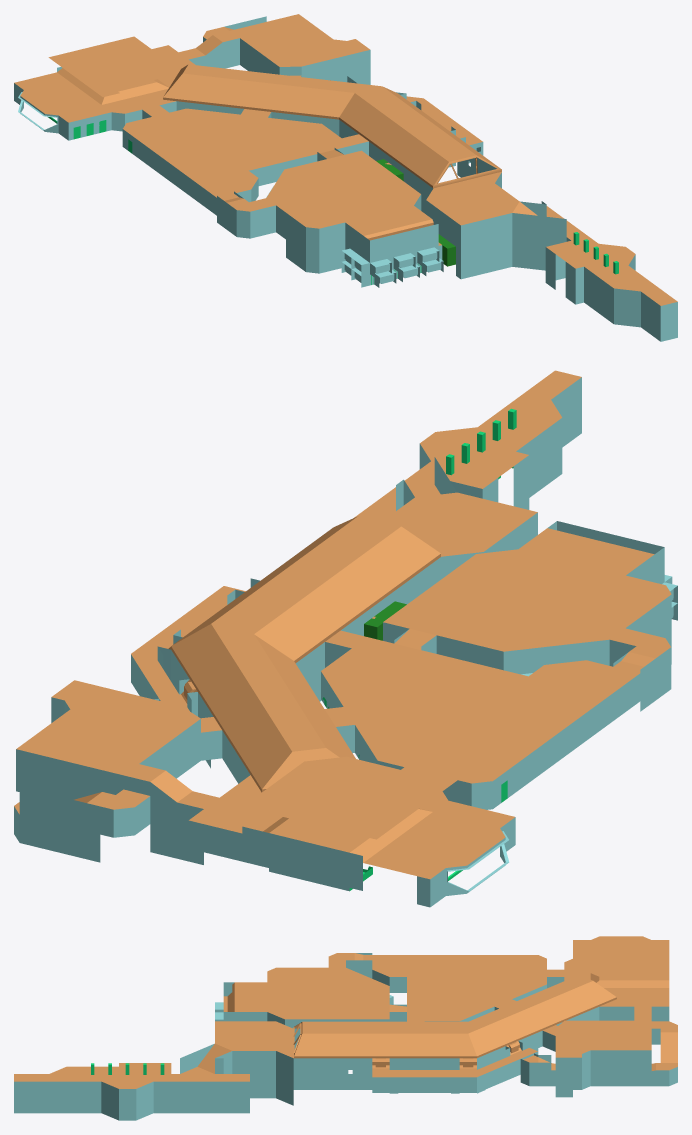
The model's file is Encounter_002_Walls.fbx.
3 views of the same model, one above another, from view 1: azimuth 30°, elevation 25°; view 2: azimuth 150°, elevation 25°; view 3: azimuth 270°, elevation 25° (orthographic). The views are drawn at different scales.
Parts seen in each view (by area): view 1: Encounter_002_Walls; view 2: Encounter_002_Walls; view 3: Encounter_002_Walls.
Boxes of the visible parts, x1,y1,x2,y2 form: Encounter_002_Walls: (14,14,677,341); Encounter_002_Walls: (14,370,677,907); Encounter_002_Walls: (14,936,677,1120).
Size of the model in its own units: 7446 by 1600 by 15200.
